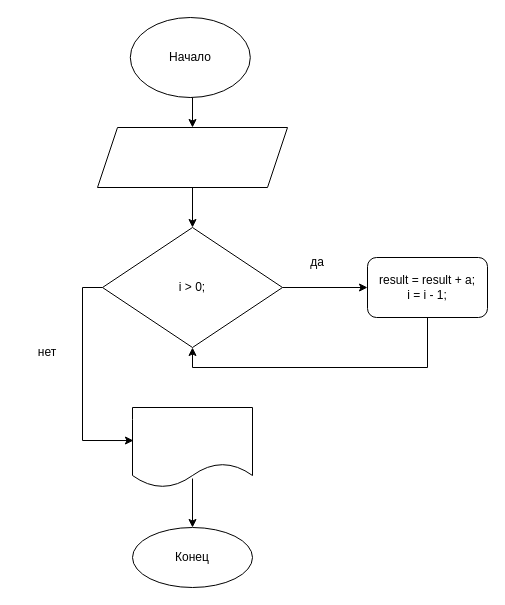
The diagram is 505 pixels wide and 605 high, and some of its shapes have lost their labels. The shapes that lost their labels are listed below. From the top down, each one's centre as x and y in pixels, then its label:
the point at 192,157: a , b , result = 0 , i = b ;
the point at 192,447: result;
